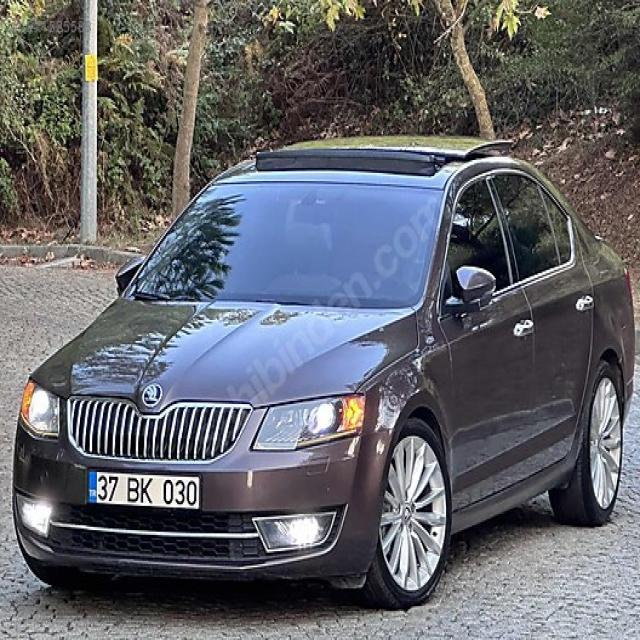skoda: (140, 382, 162, 406)
